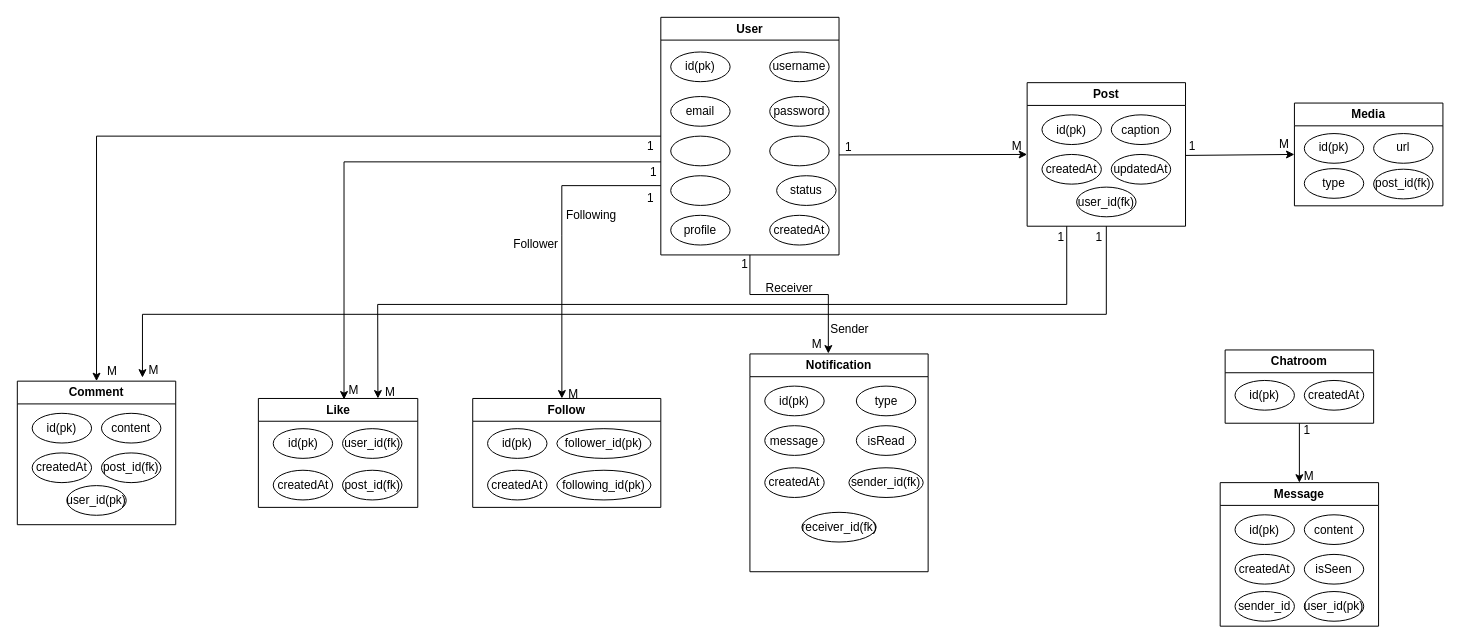
Some shapes in this 1460 by 644 pixel diagram are drawn without their labels. The centre of each missing label's shape, as x and y in pixels:
bio: the point at 700,150
profileIUrl: the point at 799,150
role: the point at 700,190
